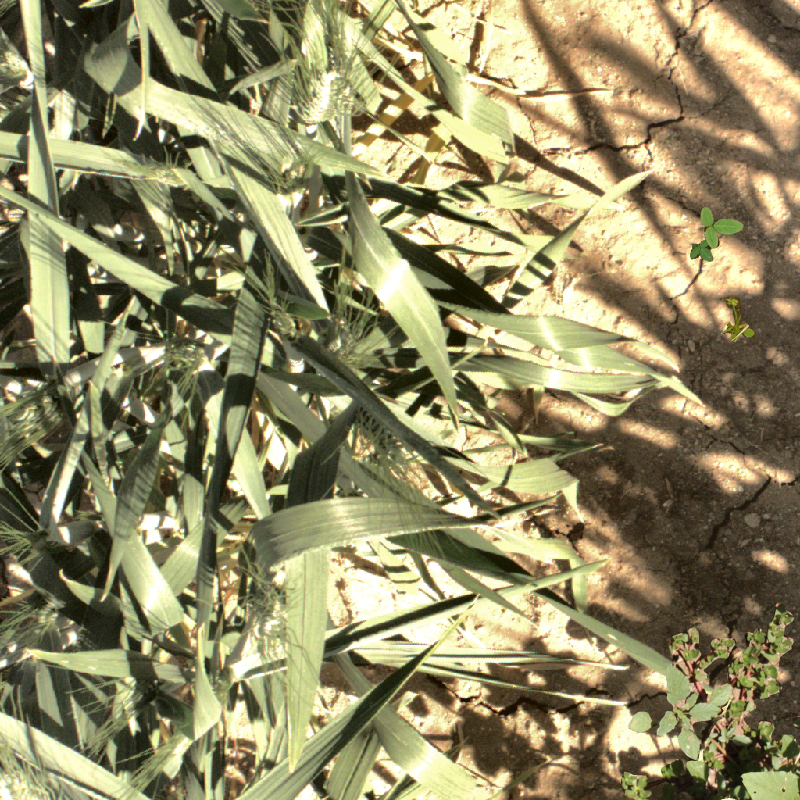spikelet: (576, 1, 677, 64), (299, 67, 350, 126), (1, 767, 67, 800)
weed: (632, 608, 800, 800), (690, 207, 744, 262), (721, 296, 756, 342)
